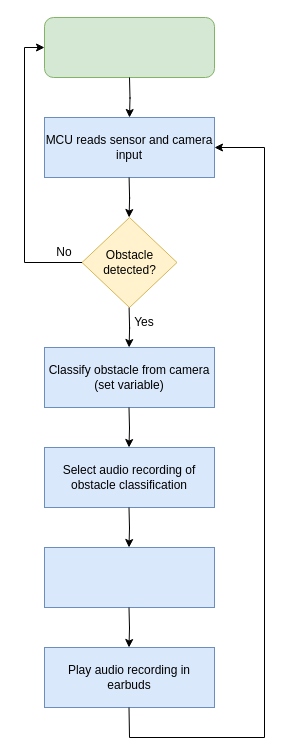
This 290x756 diagram has some shape labels left out. The centre of each missing label's shape, as x and y in pixels:
Start: [129,47]
Transmit commant to earbud by Bluetooth: [129,577]
